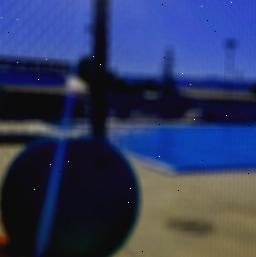algae: (0, 134, 143, 257)
